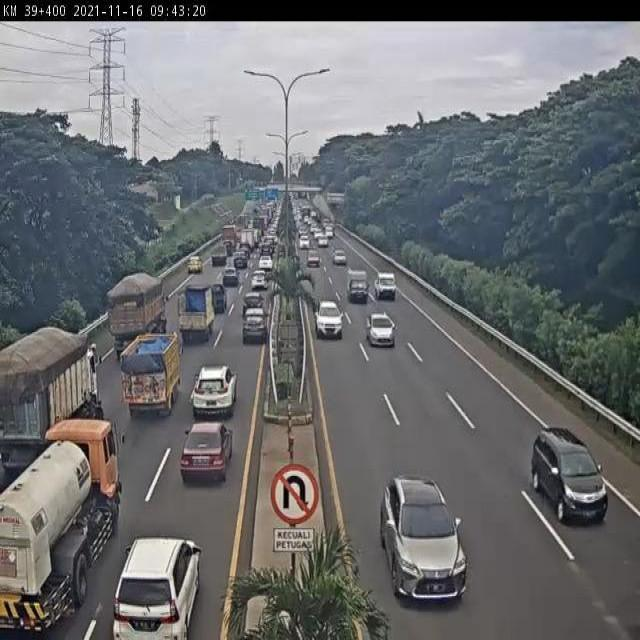car: (380, 473, 467, 607), (528, 422, 615, 530), (112, 536, 201, 640), (180, 421, 233, 487), (192, 363, 236, 420), (366, 311, 397, 349), (315, 300, 343, 341), (242, 305, 268, 344), (345, 267, 370, 305), (374, 272, 398, 303), (242, 290, 264, 318), (210, 280, 227, 315), (221, 264, 240, 291), (251, 268, 268, 292), (187, 256, 204, 275)
small truck: (122, 331, 179, 420), (180, 279, 217, 340)
truck-m-: (0, 418, 122, 634), (0, 326, 101, 474), (109, 272, 165, 360)
